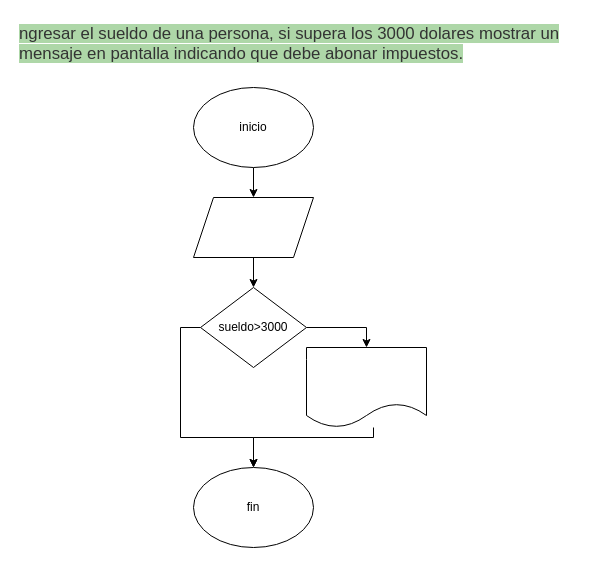
The diagram is 594 pixels wide and 565 high, and some of its shapes have lost their labels. Here are the shapes that lost their labels. From the top down, the box of each, then its label:
(192, 196, 314, 258): sueldo
(306, 346, 426, 428): "¡Esta persona debe abonar impuestos!"
